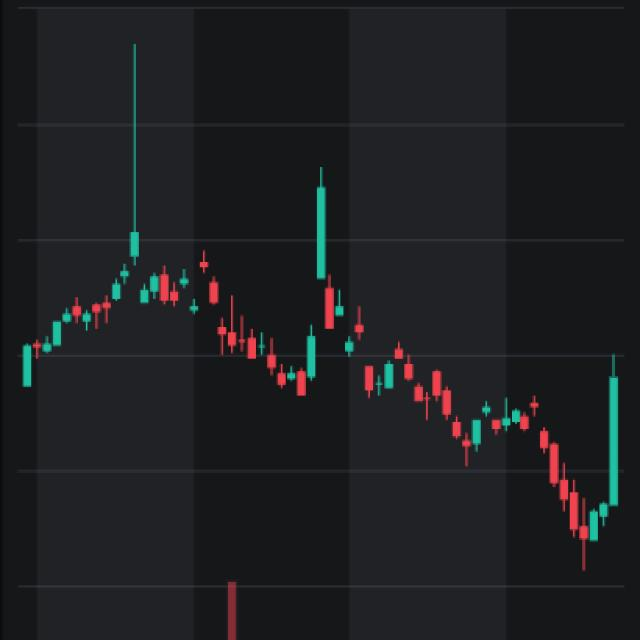Support-breakout: (34, 227, 588, 554)
